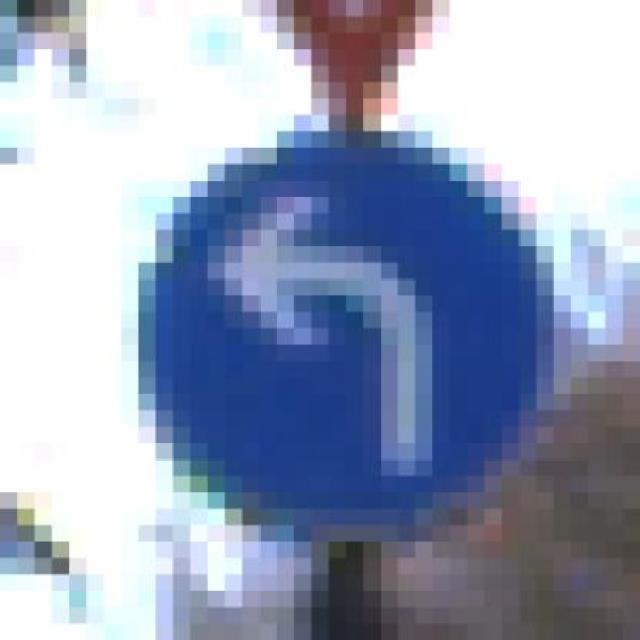Turn left ahead: (121, 115, 588, 558)
